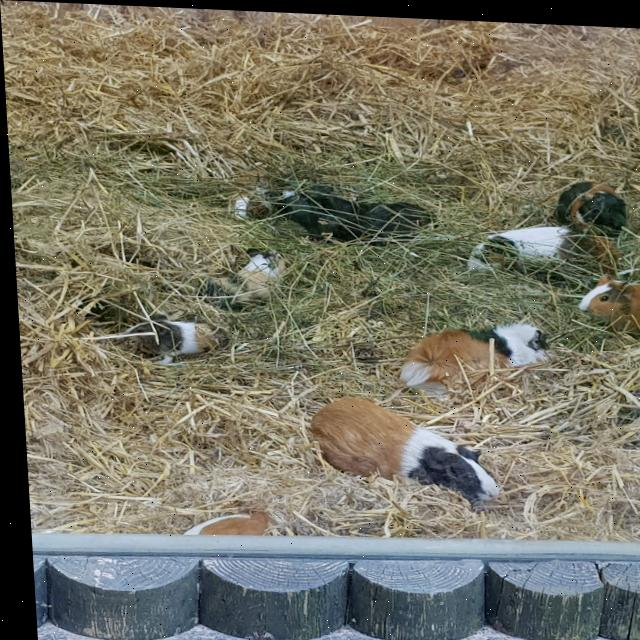guinea pig: (300, 395, 497, 500), (386, 314, 556, 394), (270, 190, 434, 241), (456, 224, 617, 272), (123, 316, 227, 371), (573, 272, 640, 331), (554, 173, 628, 224)
